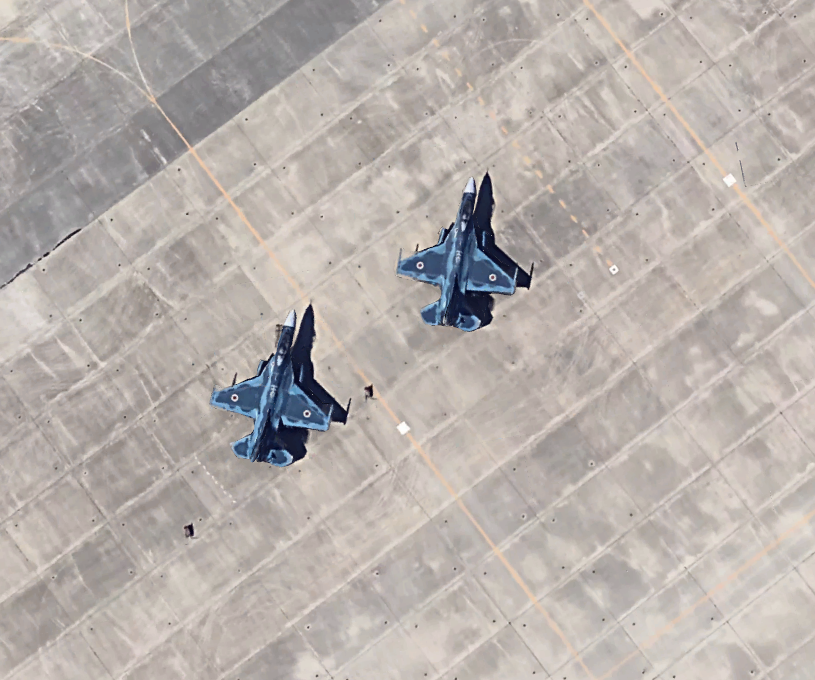A5: (209, 298, 339, 473), (392, 164, 522, 339)
